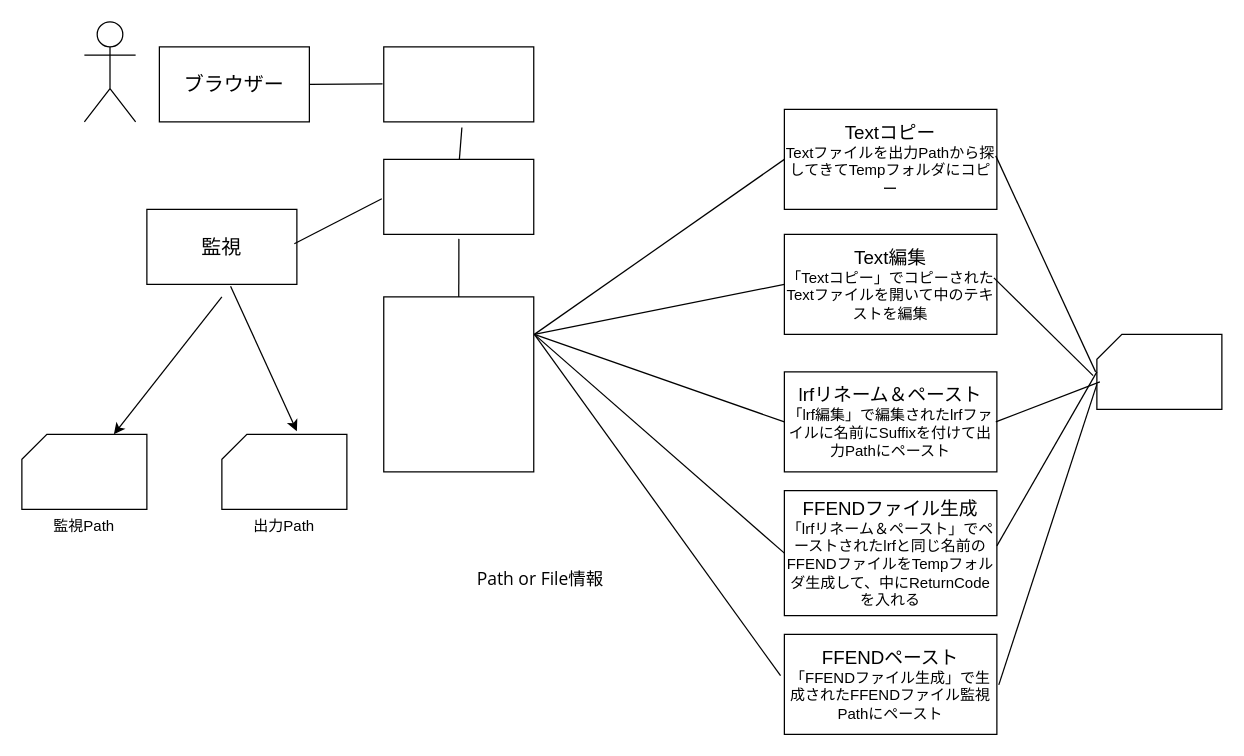
Some shapes in this 1244 by 756 pixel diagram are drawn without their labels. Each missing label, with the centre of its shape:
"Actor" belongs at point 109,71.
"Service" belongs at point 458,384.
"TempFolder" belongs at point 1159,371.
"UI" belongs at point 458,84.
"制御" belongs at point 458,196.
